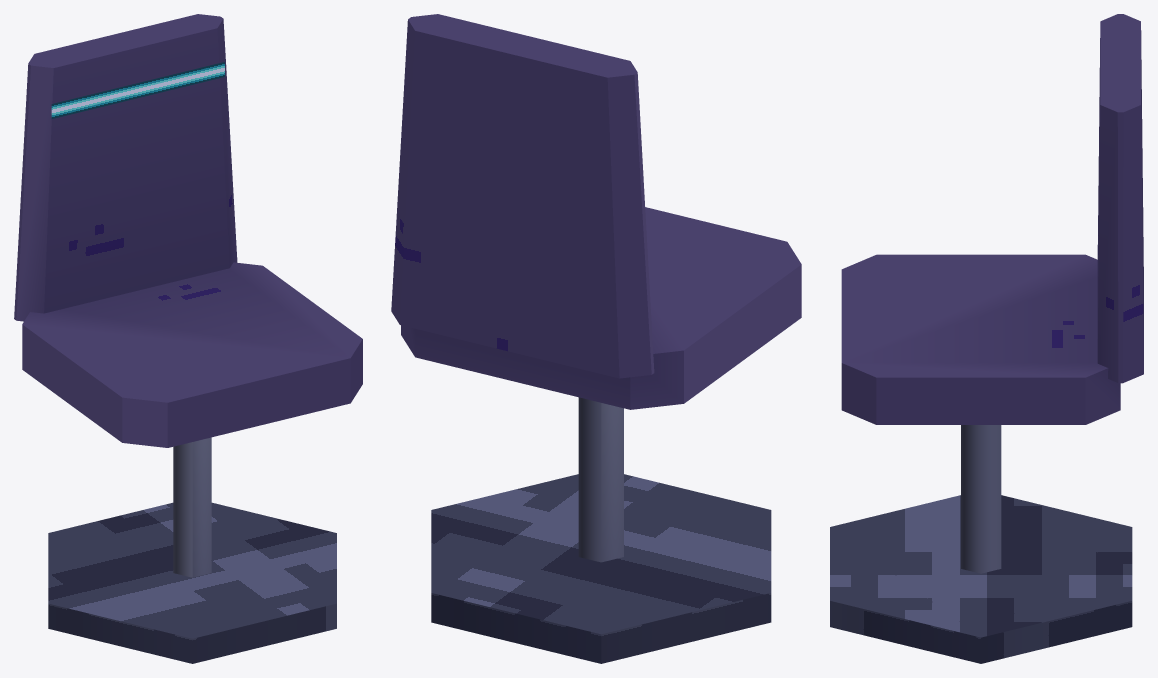
The model's file is cyroom.chair.glb.
3 views of the same model, side by side, from view 1: azimuth 30°, elevation 25°; view 2: azimuth 150°, elevation 25°; view 3: azimuth 270°, elevation 25° (orthographic). The views are drawn at different scales.
Visible parts, largest first — view 1: kit_body, kit_card_details; view 2: kit_body; view 3: kit_body.
Boxes of the visible parts, left/top/right/bottom form: kit_body: left=14, top=14, right=362, bottom=663; kit_card_details: left=51, top=62, right=224, bottom=118; kit_body: left=391, top=14, right=801, bottom=663; kit_body: left=830, top=14, right=1143, bottom=663.
Size of the model in its own units: 0.6 by 1 by 0.5398.
4 materials, 3 textured.
